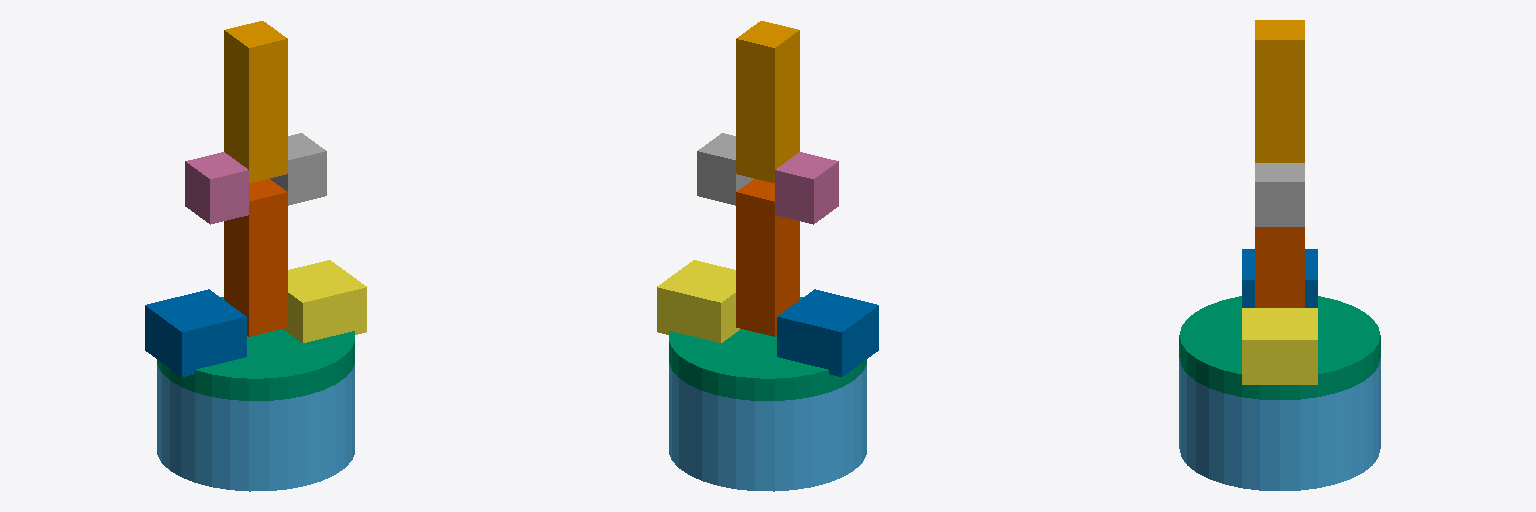
The robot description file, URDF, robot "robot_demo":
<?xml version="1.0" ?>
<!-- =================================================================================== -->
<!-- |    This document was autogenerated by xacro from [local-path]/urdf_ws/src/robot_description/urdf/description.urdf.xacro | -->
<!-- |    EDITING THIS FILE BY HAND IS NOT RECOMMENDED                                 | -->
<!-- =================================================================================== -->
<robot name="robot_demo">
  <link name="world"/>
  <link name="base_link">
    <visual>
      <origin rpy="0 0 0" xyz="0 0 0.1"/>
      <geometry>
        <cylinder length="0.2" radius="0.2"/>
        <!--<mesh filename="package://robot_description/meshes/Base.STL"/>-->
      </geometry>
    </visual>
  </link>
  <joint name="base_joint" type="fixed">
    <parent link="world"/>
    <child link="base_link"/>
    <origin rpy="0 0 0" xyz="0 0 0"/>
  </joint>
  <link name="base_plate">
    <visual>
      <origin rpy="0 0 0" xyz="0 0 0.025"/>
      <geometry>
        <cylinder length="0.05" radius="0.2"/>
      </geometry>
    </visual>
  </link>
  <joint name="base_plate_joint" type="revolute">
    <parent link="base_link"/>
    <child link="base_plate"/>
    <axis xyz="0 0 1"/>
    <origin rpy="0 0 0" xyz="0 0 0.2"/>
    <limit effort="30.0" lower="-1.5707" upper="1.5707" velocity="10.0"/>
  </joint>
  <link name="support_base_1">
    <visual>
      <origin rpy="0 0 0" xyz="0 0 0.09"/>
      <geometry>
        <box size="0.15 0.15 0.1"/>
      </geometry>
    </visual>
  </link>
  <joint name="support_joint_1" type="fixed">
    <parent link="base_plate"/>
    <child link="support_base_1"/>
    <origin rpy="0 0 0" xyz="0.14 0 0"/>
  </joint>
  <link name="support_base_2">
    <visual>
      <origin rpy="0 0 0" xyz="0 0 0.09"/>
      <geometry>
        <box size="0.15 0.15 0.1"/>
      </geometry>
    </visual>
  </link>
  <joint name="support_joint_2" type="fixed">
    <parent link="base_plate"/>
    <child link="support_base_2"/>
    <origin rpy="0 0 0" xyz="-0.14 0 0"/>
  </joint>
  <link name="verticle_link">
    <visual>
      <origin rpy="0 0 0" xyz="0 0 0.13"/>
      <geometry>
        <box size="0.09 0.1 0.3"/>
      </geometry>
    </visual>
  </link>
  <joint name="vertical_joint" type="revolute">
    <parent link="support_base_1"/>
    <child link="verticle_link"/>
    <origin rpy="0 0 0" xyz="-0.14 0 0.1"/>
    <axis xyz="1 0 0"/>
    <limit effort="30.0" lower="-1.5707" upper="1.5707" velocity="10.0"/>
  </joint>
  <link name="verticle_support_link_1">
    <visual>
      <origin rpy="0 0 0" xyz="0 0 0"/>
      <geometry>
        <box size="0.09 0.1 0.1"/>
      </geometry>
    </visual>
  </link>
  <joint name="vertical_support_joint_1" type="fixed">
    <parent link="verticle_link"/>
    <child link="verticle_support_link_1"/>
    <origin rpy="0 0 0" xyz="-0.09 0 0.30"/>
  </joint>
  <link name="verticle_support_link_2">
    <visual>
      <origin rpy="0 0 0" xyz="0 0 0"/>
      <geometry>
        <box size="0.09 0.1 0.1"/>
      </geometry>
    </visual>
  </link>
  <joint name="vertical_support_joint_2" type="fixed">
    <parent link="verticle_link"/>
    <child link="verticle_support_link_2"/>
    <origin rpy="0 0 0" xyz="0.09 0 0.30"/>
  </joint>
  <link name="forward_link">
    <visual>
      <origin rpy="0 0 0" xyz="0 0 0.17"/>
      <geometry>
        <box size="0.09 0.1 0.3"/>
      </geometry>
    </visual>
  </link>
  <joint name="forwaed_joint" type="revolute">
    <parent link="verticle_support_link_1"/>
    <child link="forward_link"/>
    <origin rpy="0 0 0" xyz="0.09 0 0"/>
    <axis xyz="1 0 0"/>
    <limit effort="30.0" lower="-1.5707" upper="1.5707" velocity="10.0"/>
  </joint>
</robot>

--- Render facts (derived) ---
3 views of the same robot in one strip: view 1: azimuth 30°, elevation 25°; view 2: azimuth 150°, elevation 25°; view 3: azimuth 270°, elevation 25° (orthographic).
Model robot_demo with 9 links and 8 joints (3 revolute, 5 fixed), rooted at world, posed every joint at zero.
Visible links, largest first — view 1: base_link, forward_link, base_plate, verticle_link, support_base_2, support_base_1, verticle_support_link_1, verticle_support_link_2; view 2: base_link, forward_link, base_plate, verticle_link, support_base_2, support_base_1, verticle_support_link_1, verticle_support_link_2; view 3: base_link, base_plate, forward_link, support_base_1, verticle_link, verticle_support_link_2, support_base_2.
Link boxes in pixels (<box>): base_link: <box>157,364,354,491</box>; forward_link: <box>224,21,287,182</box>; base_plate: <box>157,297,354,400</box>; verticle_link: <box>224,179,287,336</box>; support_base_2: <box>145,289,246,376</box>; support_base_1: <box>284,260,366,342</box>; verticle_support_link_1: <box>185,152,248,224</box>; verticle_support_link_2: <box>270,133,326,205</box>; base_link: <box>669,364,866,491</box>; forward_link: <box>736,21,799,182</box>; base_plate: <box>669,297,866,400</box>; verticle_link: <box>736,179,799,336</box>; support_base_2: <box>777,289,878,376</box>; support_base_1: <box>657,260,739,342</box>; verticle_support_link_1: <box>775,152,838,224</box>; verticle_support_link_2: <box>697,133,753,205</box>; base_link: <box>1179,358,1380,490</box>; base_plate: <box>1179,296,1380,399</box>; forward_link: <box>1255,20,1304,162</box>; support_base_1: <box>1242,308,1317,384</box>; verticle_link: <box>1255,227,1304,307</box>; verticle_support_link_2: <box>1255,163,1304,226</box>; support_base_2: <box>1242,249,1317,307</box>.
Size in the robot's own frame: 0.43 by 0.4 by 0.92 metres.
Geometry: primitives only (box / cylinder / sphere), no mesh files.